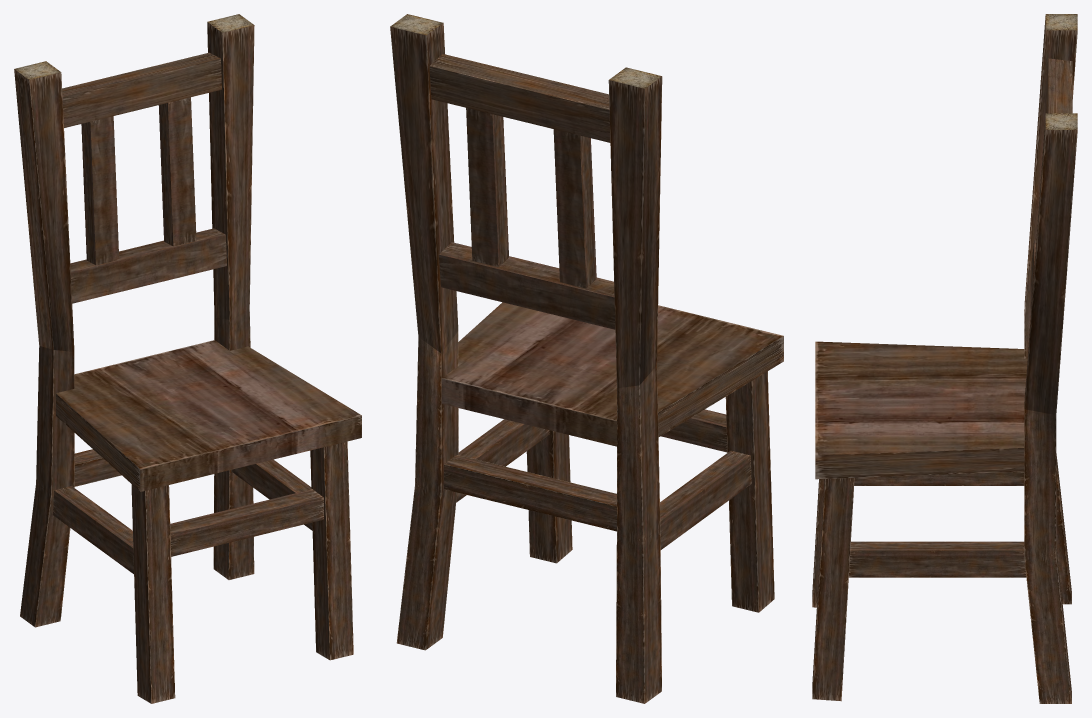
File: pir_m_prp_set_chair_destructible.fbx
The picture shows the model from 3 angles, left to right: view 1: azimuth 30°, elevation 25°; view 2: azimuth 150°, elevation 25°; view 3: azimuth 270°, elevation 25°; orthographic projection. The views are drawn at different scales.
Visible parts, largest first — view 1: wood02.001, wood02, wood01, wood08, wood09, wood03.001, wood03, wood04, wood05.001, wood06, wood05, wood01.001 (+3 smaller); view 2: wood02.001, wood02, wood01, wood08, wood01.001, wood09, wood03, wood04, wood04.001, wood06, wood05, wood07 (+3 smaller); view 3: wood02.001, wood01, wood01.001, wood03.001, wood06.001, wood02, wood07, wood03, wood08, wood09.
Part boxes in pixels (x1=…): wood02.001: x1=56, y1=340, x2=361, y2=491; wood02: x1=14, y1=61, x2=74, y2=351; wood01: x1=207, y1=14, x2=254, y2=319; wood08: x1=20, y1=346, x2=74, y2=627; wood09: x1=131, y1=484, x2=175, y2=703; wood03.001: x1=310, y1=441, x2=353, y2=660; wood03: x1=62, y1=52, x2=221, y2=127; wood04: x1=70, y1=228, x2=226, y2=303; wood05.001: x1=170, y1=489, x2=323, y2=556; wood06: x1=81, y1=116, x2=119, y2=265; wood05: x1=158, y1=97, x2=196, y2=246; wood01.001: x1=213, y1=309, x2=254, y2=579; wood02.001: x1=441, y1=302, x2=783, y2=446; wood02: x1=608, y1=67, x2=662, y2=388; wood01: x1=390, y1=14, x2=458, y2=352; wood08: x1=616, y1=366, x2=661, y2=703; wood01.001: x1=396, y1=331, x2=458, y2=650; wood09: x1=725, y1=371, x2=774, y2=612; wood03: x1=429, y1=54, x2=610, y2=142; wood04: x1=438, y1=242, x2=615, y2=329; wood04.001: x1=444, y1=455, x2=616, y2=531; wood06: x1=553, y1=129, x2=596, y2=288; wood05: x1=466, y1=108, x2=508, y2=267; wood07: x1=660, y1=450, x2=751, y2=549; wood02.001: x1=815, y1=341, x2=1027, y2=479; wood01: x1=1024, y1=113, x2=1077, y2=414; wood01.001: x1=1024, y1=409, x2=1071, y2=703; wood03.001: x1=812, y1=478, x2=854, y2=701; wood06.001: x1=849, y1=541, x2=1026, y2=577; wood02: x1=1024, y1=14, x2=1077, y2=320; wood07: x1=854, y1=471, x2=1024, y2=485; wood03: x1=1045, y1=58, x2=1072, y2=114; wood08: x1=1024, y1=320, x2=1071, y2=604; wood09: x1=812, y1=479, x2=824, y2=607.
Size of the model in its own units: 146 by 338 by 141.
Materials: 1 (1 with a texture image).
